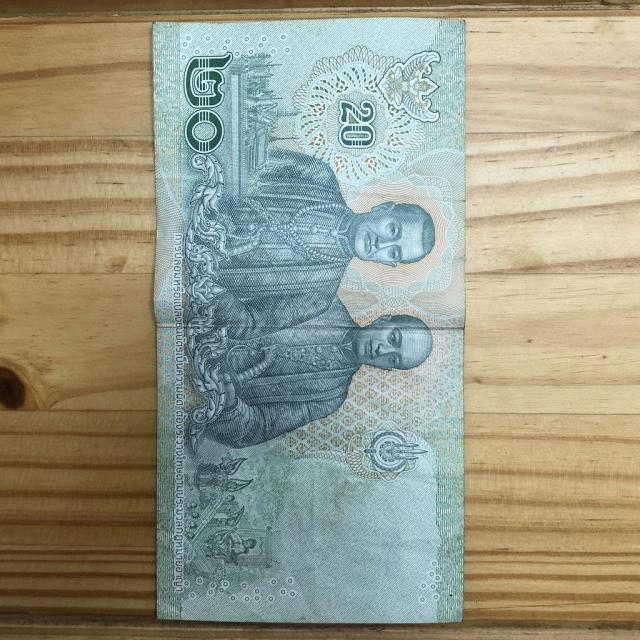THAI20: (153, 18, 464, 623)
